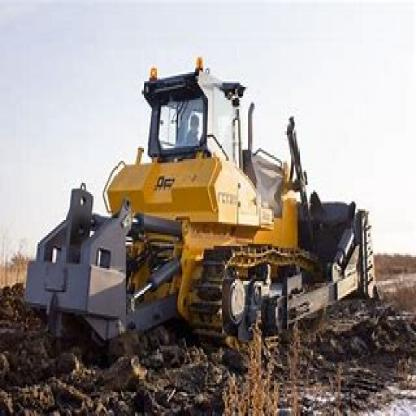bull_dozer/loader/grader: (18, 57, 384, 355)
